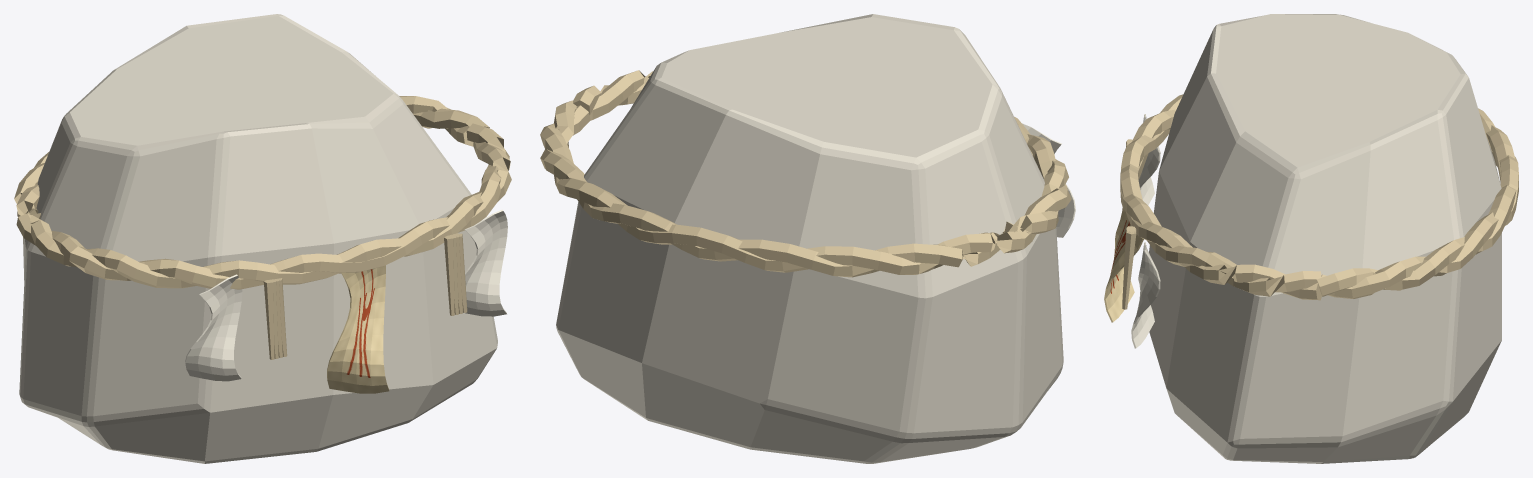
The model's file is Test_CheonRef_Sealstone.fbx.
3 views of the same model, side by side, from view 1: azimuth 30°, elevation 25°; view 2: azimuth 150°, elevation 25°; view 3: azimuth 270°, elevation 25° (orthographic). The views are drawn at different scales.
Parts seen in each view (by area): view 1: SealStoneBody, SacredStoneRope_Twist1, SacredStoneRope_Twist0, CurvedHanjiTalisman, PlainPaperCharm, PlainPaperCharm.001, ShortRopeTassel, ShortRopeTassel.004; view 2: SealStoneBody, SacredStoneRope_Twist1, SacredStoneRope_Twist0, PlainPaperCharm; view 3: SealStoneBody, SacredStoneRope_Twist1, SacredStoneRope_Twist0, CurvedHanjiTalisman, PlainPaperCharm.001, PlainPaperCharm, ShortRopeTassel.007.
Boxes of the visible parts, x1=… form: SealStoneBody: x1=19, y1=14, x2=497, y2=463; SacredStoneRope_Twist1: x1=16, y1=96, x2=509, y2=289; SacredStoneRope_Twist0: x1=14, y1=108, x2=511, y2=288; CurvedHanjiTalisman: x1=327, y1=265, x2=389, y2=393; PlainPaperCharm: x1=185, y1=274, x2=242, y2=381; PlainPaperCharm.001: x1=464, y1=209, x2=507, y2=316; ShortRopeTassel: x1=263, y1=279, x2=274, y2=359; ShortRopeTassel.004: x1=444, y1=235, x2=454, y2=315; SealStoneBody: x1=556, y1=14, x2=1063, y2=463; SacredStoneRope_Twist1: x1=540, y1=78, x2=1071, y2=274; SacredStoneRope_Twist0: x1=540, y1=70, x2=1068, y2=277; PlainPaperCharm: x1=1022, y1=123, x2=1075, y2=237; SealStoneBody: x1=1149, y1=14, x2=1501, y2=463; SacredStoneRope_Twist1: x1=1120, y1=94, x2=1518, y2=298; SacredStoneRope_Twist0: x1=1120, y1=109, x2=1518, y2=300; CurvedHanjiTalisman: x1=1104, y1=208, x2=1143, y2=322; PlainPaperCharm.001: x1=1131, y1=242, x2=1160, y2=348; PlainPaperCharm: x1=1138, y1=114, x2=1160, y2=205; ShortRopeTassel.007: x1=1122, y1=232, x2=1136, y2=309.
Size of the model in its own units: 239 by 160 by 192.
